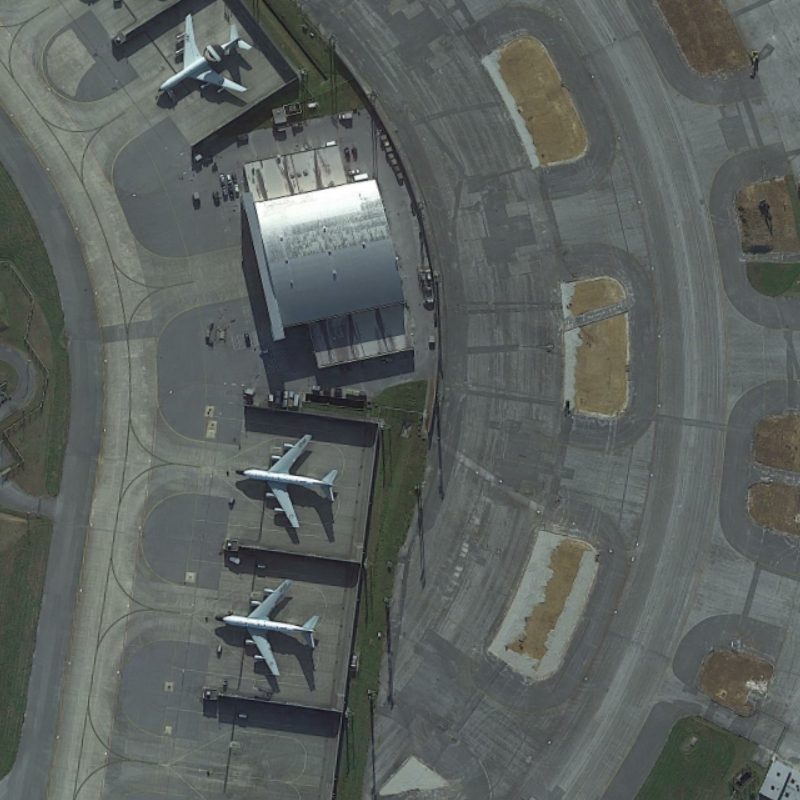A11: (208, 572, 326, 683), (232, 424, 343, 537)
A7: (149, 7, 259, 109)
